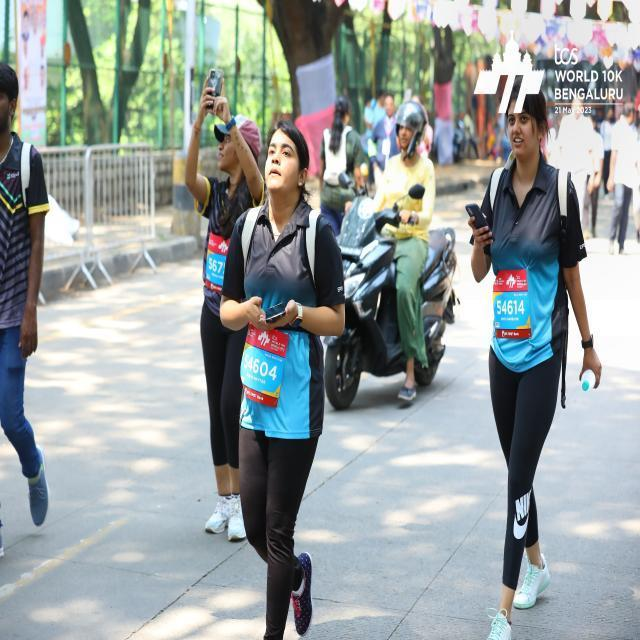dorsal: (241, 320, 284, 415), (488, 265, 534, 348)
